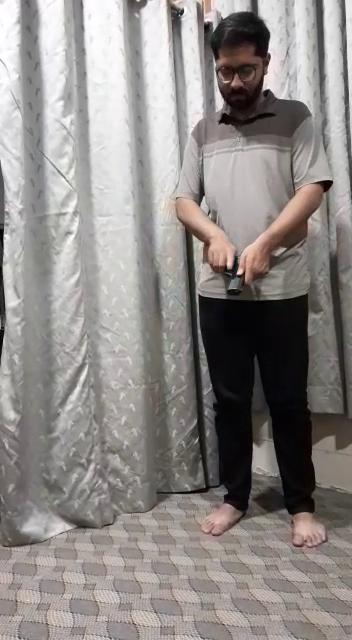criminal: (172, 10, 335, 549)
weapon: (212, 249, 255, 304)
